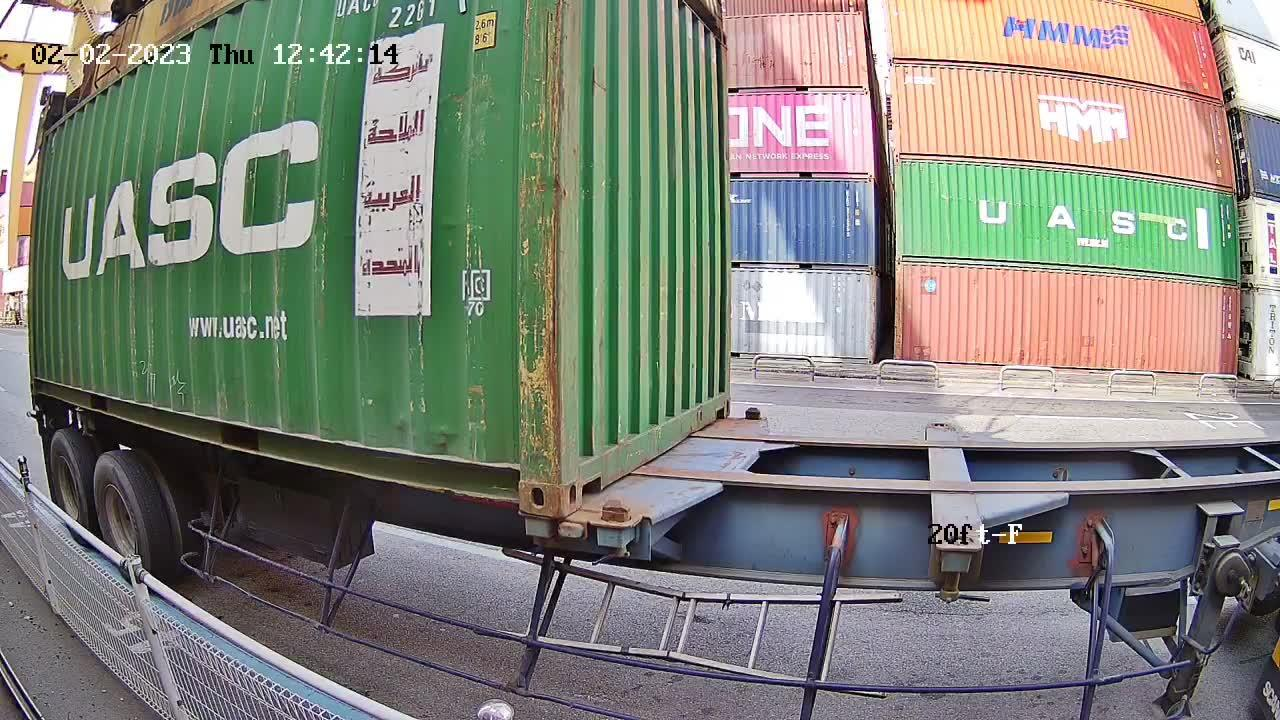Chassis: (592, 417, 765, 530)
Cone: (594, 501, 637, 563), (520, 510, 559, 560), (739, 405, 767, 424)
Hole_L: (561, 406, 614, 518)
Hole_R: (465, 423, 563, 516), (710, 374, 731, 421)
Tire: (93, 454, 153, 578), (53, 432, 88, 540)
